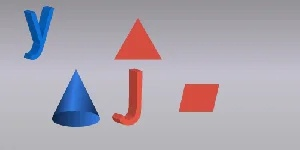三角形: (113, 16, 163, 62)
圆锥体: (50, 68, 102, 128)
大写字母: (111, 68, 145, 126)
小写字母: (21, 4, 55, 61)
平行四边形: (178, 82, 221, 114)
